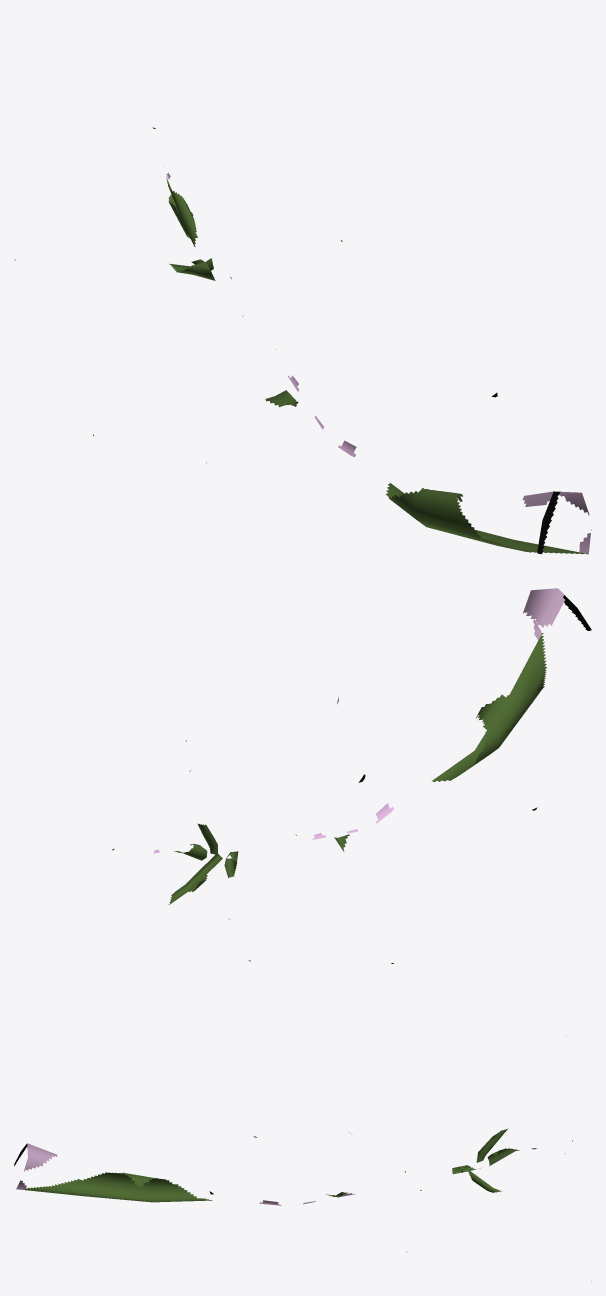
The model's file is Branch_1a.gltf.
The picture shows the model from 3 angles, top to bottom: view 1: azimuth 30°, elevation 25°; view 2: azimuth 150°, elevation 25°; view 3: azimuth 270°, elevation 25°; orthographic projection. The views are drawn at different scales.
Parts seen in each view (by area): view 1: Branch_1a; view 2: Branch_1a; view 3: Branch_1a.
Boxes of the visible parts, bbox=[...] form: Branch_1a: bbox=[14, 127, 591, 554]; Branch_1a: bbox=[112, 588, 591, 963]; Branch_1a: bbox=[14, 1035, 591, 1281].
Bounding box in the file's own units: 69.4 × 70.4 × 187.
1 material, 1 textured.
